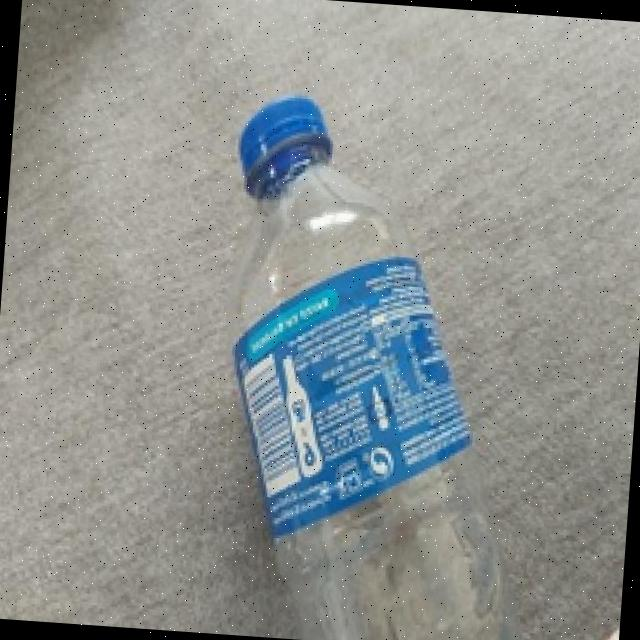bottle: (184, 82, 572, 640)
cap: (236, 95, 324, 186)
label: (218, 236, 482, 537)
